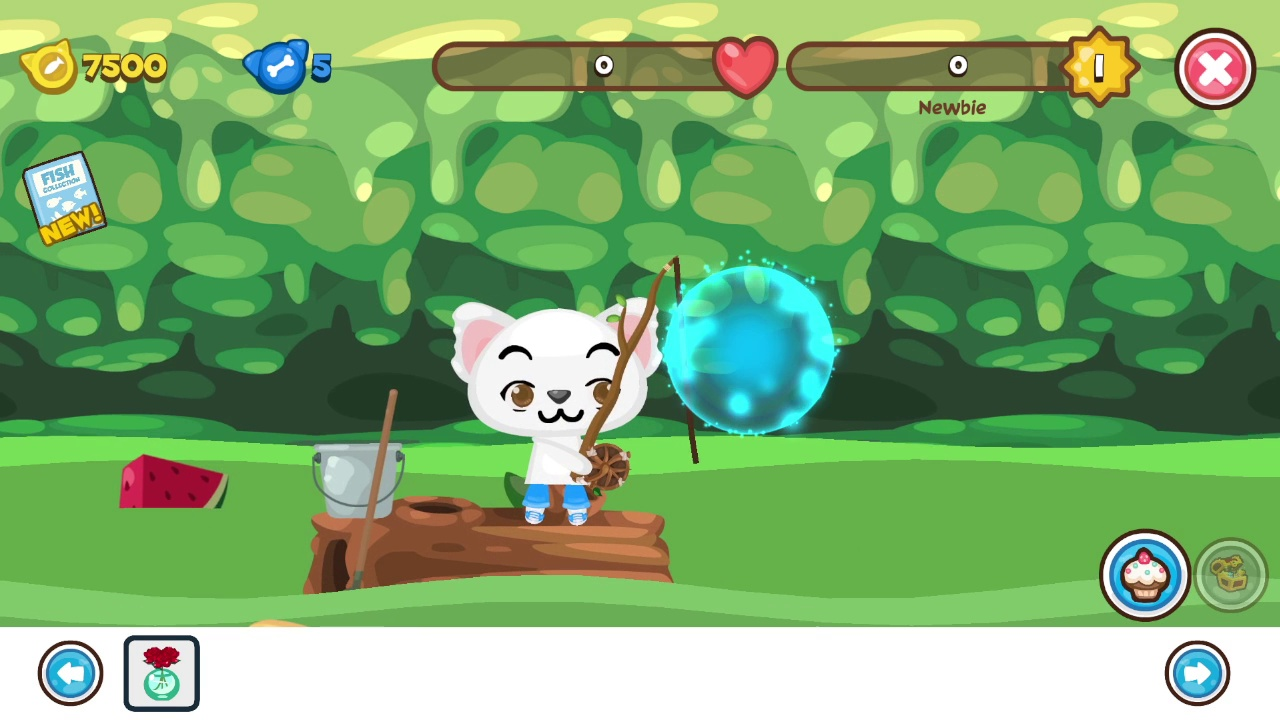point: (659, 259, 841, 438)
